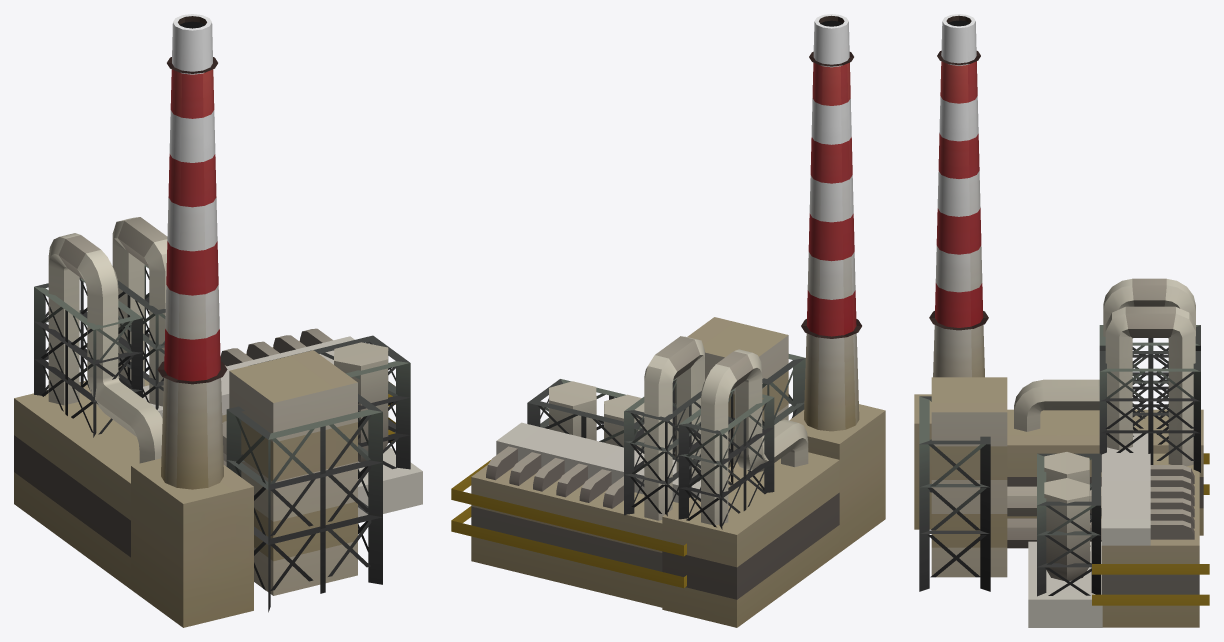
The model's file is SM_Factory_Building_05.fbx.
The picture shows the model from 3 angles, left to right: view 1: azimuth 30°, elevation 25°; view 2: azimuth 150°, elevation 25°; view 3: azimuth 270°, elevation 25°; orthographic projection. The views are drawn at different scales.
Parts seen in each view (by area): view 1: SM_Factory_Building_05; view 2: SM_Factory_Building_05; view 3: SM_Factory_Building_05.
Boxes of the visible parts, <box> form: SM_Factory_Building_05: <box>14,14,422,627</box>; SM_Factory_Building_05: <box>451,14,885,627</box>; SM_Factory_Building_05: <box>914,14,1209,627</box>.
Size of the model in its own units: 9.55 by 16.61 by 8.87.
